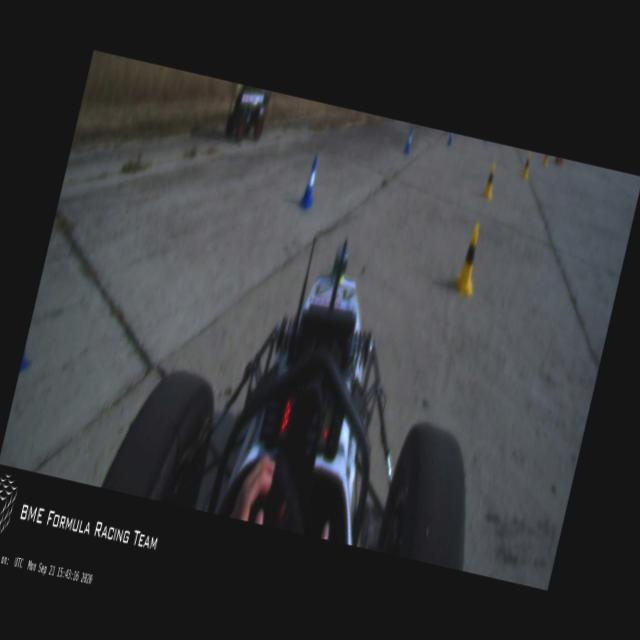blue_cone: (296, 152, 324, 210), (402, 126, 415, 156)
yellow_cone: (451, 222, 488, 297), (480, 161, 499, 200), (520, 152, 533, 180)
